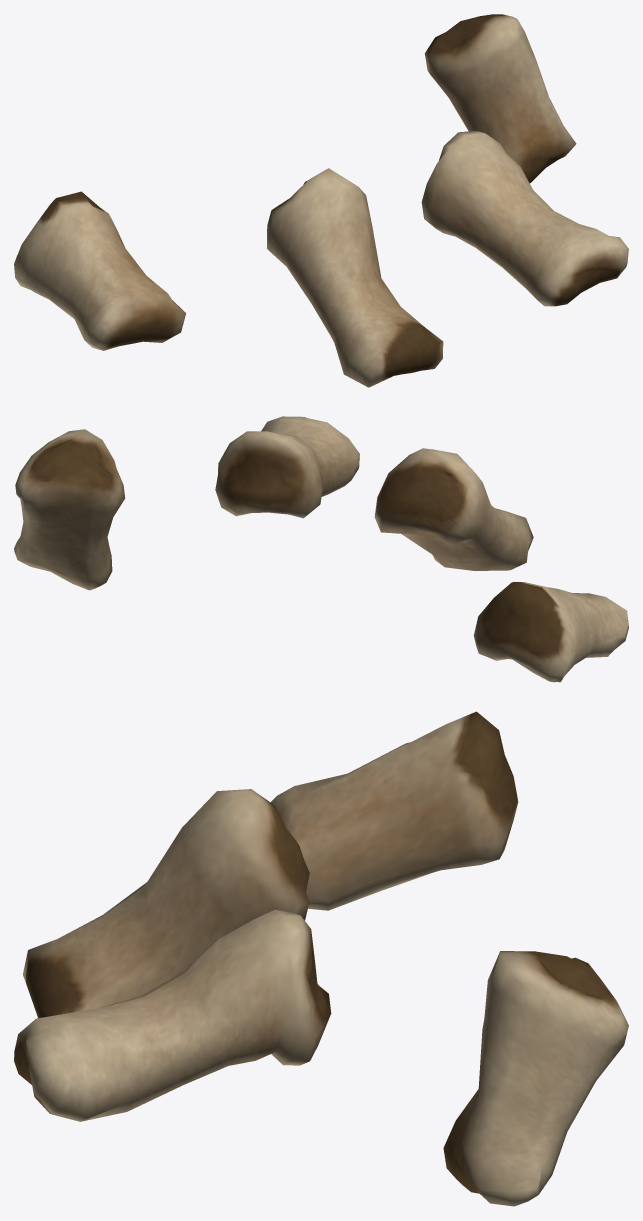
The model's file is Middle Phalanges.glb.
3 renders of one model, top to bottom at view 1: azimuth 30°, elevation 25°; view 2: azimuth 150°, elevation 25°; view 3: azimuth 270°, elevation 25°, orthographic. The views are drawn at different scales.
Visible parts, largest first — view 1: polySurface11, polySurface12, polySurface10, polySurface13; view 2: polySurface13, polySurface11, polySurface12, polySurface10; view 3: polySurface12, polySurface11, polySurface10, polySurface13.
Part boxes in pixels (left/top/right/bottom): polySurface11: left=267, top=168, right=443, bottom=387; polySurface12: left=421, top=130, right=628, bottom=306; polySurface10: left=14, top=191, right=186, bottom=350; polySurface13: left=424, top=14, right=576, bottom=183; polySurface13: left=14, top=429, right=125, bottom=590; polySurface11: left=374, top=448, right=533, bottom=570; polySurface12: left=215, top=416, right=359, bottom=518; polySurface10: left=473, top=582, right=628, bottom=682; polySurface12: left=14, top=909, right=331, bottom=1121; polySurface11: left=23, top=789, right=309, bottom=1018; polySurface10: left=270, top=711, right=518, bottom=910; polySurface13: left=443, top=951, right=628, bottom=1206.
Size of the model in its own units: 46.4 by 14.46 by 30.22.
Materials: 1 (1 with a texture image).
